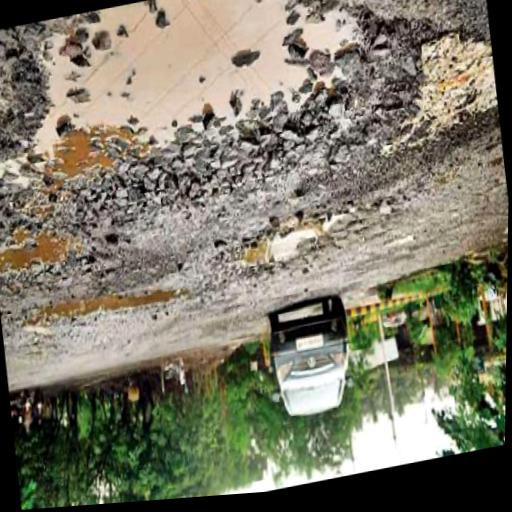pothole: (0, 0, 442, 247), (226, 205, 353, 289), (33, 271, 187, 334), (0, 224, 93, 290)
